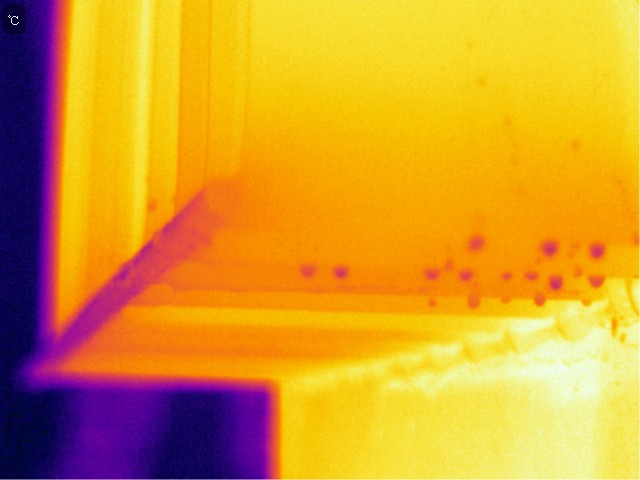Water: (533, 237, 564, 258), (419, 264, 445, 286), (584, 271, 612, 291), (466, 233, 491, 255), (527, 293, 553, 313), (295, 260, 319, 281), (582, 241, 607, 259), (461, 292, 487, 308), (545, 273, 568, 290), (331, 262, 353, 279), (456, 266, 477, 282)
